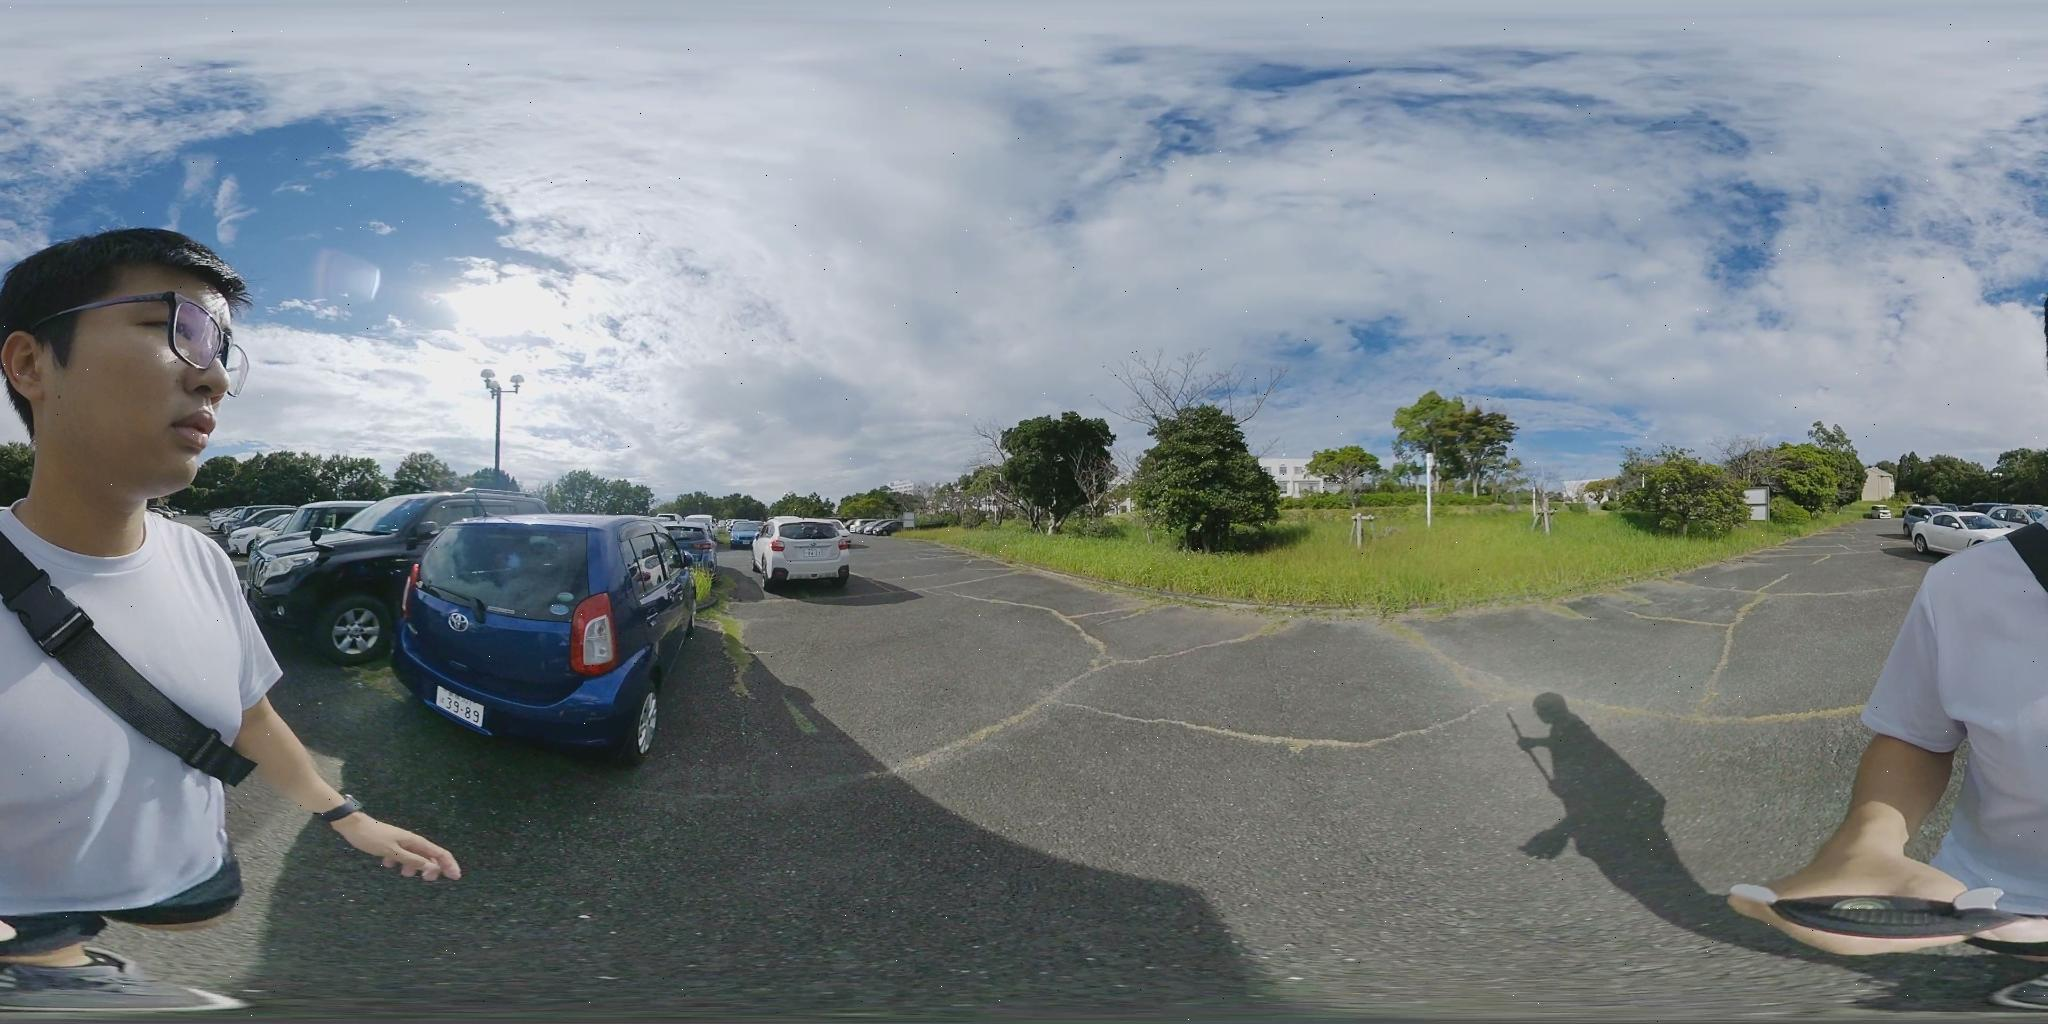car: (393, 512, 712, 756), (259, 492, 554, 665), (236, 502, 389, 589), (754, 521, 857, 585), (1910, 507, 2044, 555), (724, 521, 763, 547)
